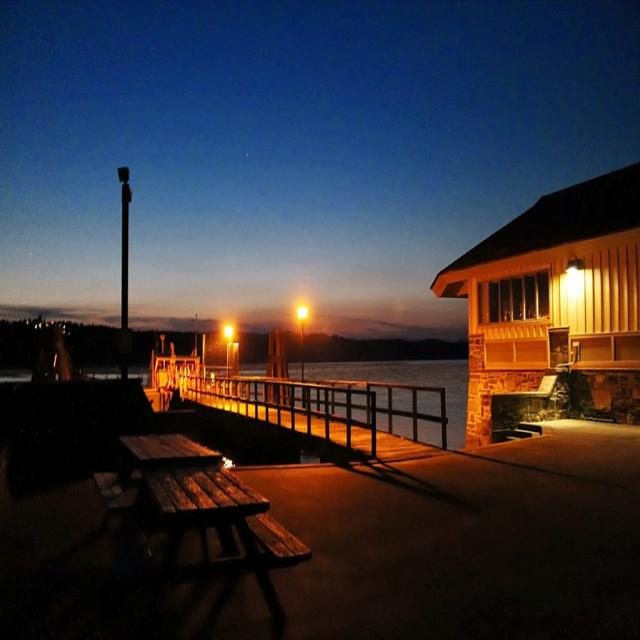Table: (106, 402, 262, 571), (119, 417, 233, 475)
chair: (226, 444, 313, 593), (77, 446, 140, 557)
